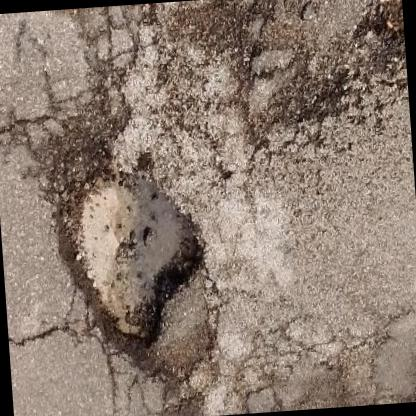pothole: (46, 145, 218, 370), (365, 0, 405, 47)
